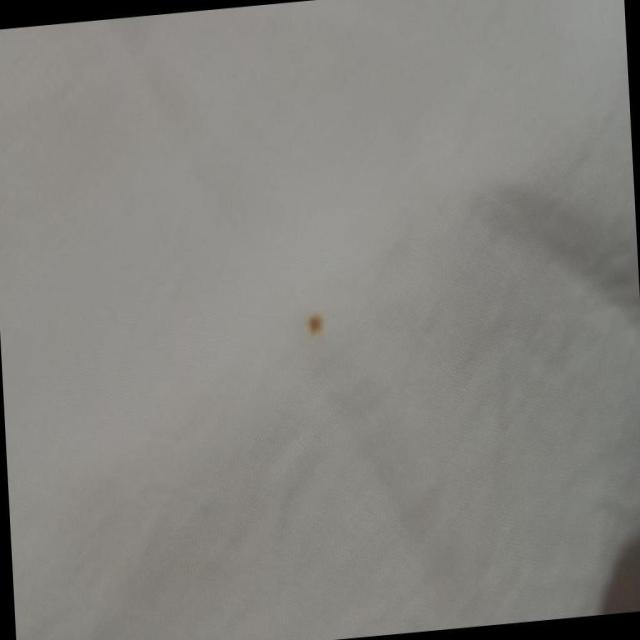stain: (297, 300, 332, 350)
